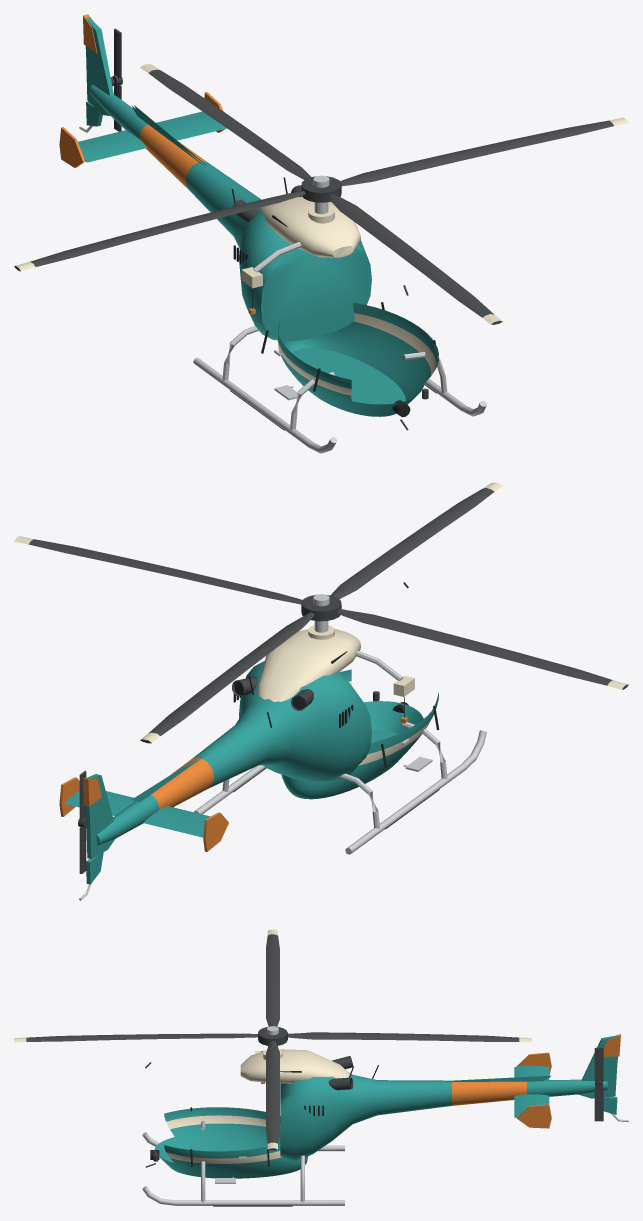
The model's file is exterior.glb.
The picture shows the model from 3 angles, top to bottom: view 1: azimuth 30°, elevation 25°; view 2: azimuth 150°, elevation 25°; view 3: azimuth 270°, elevation 25°; orthographic projection. The views are drawn at different scales.
Visible parts, largest first — view 1: Fuselage, MainRotor, TailRotor; view 2: Fuselage, MainRotor, TailRotor; view 3: Fuselage, MainRotor, TailRotor.
Boxes of the visible parts, x1=… form: Fuselage: x1=59, y1=14, x2=486, y2=453; MainRotor: x1=14, y1=64, x2=628, y2=324; TailRotor: x1=112, y1=28, x2=122, y2=131; Fuselage: x1=59, y1=582, x2=486, y2=900; MainRotor: x1=14, y1=482, x2=628, y2=743; TailRotor: x1=78, y1=770, x2=86, y2=873; Fuselage: x1=142, y1=1034, x2=628, y2=1206; MainRotor: x1=14, y1=929, x2=531, y2=1150; TailRotor: x1=594, y1=1047, x2=603, y2=1121.
Size of the model in its own units: 10.4 by 3.32 by 12.35.
